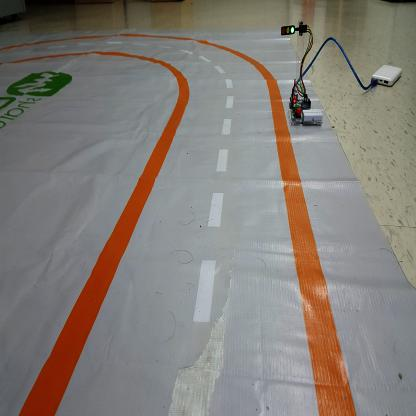traffic-light: (280, 22, 295, 38)
